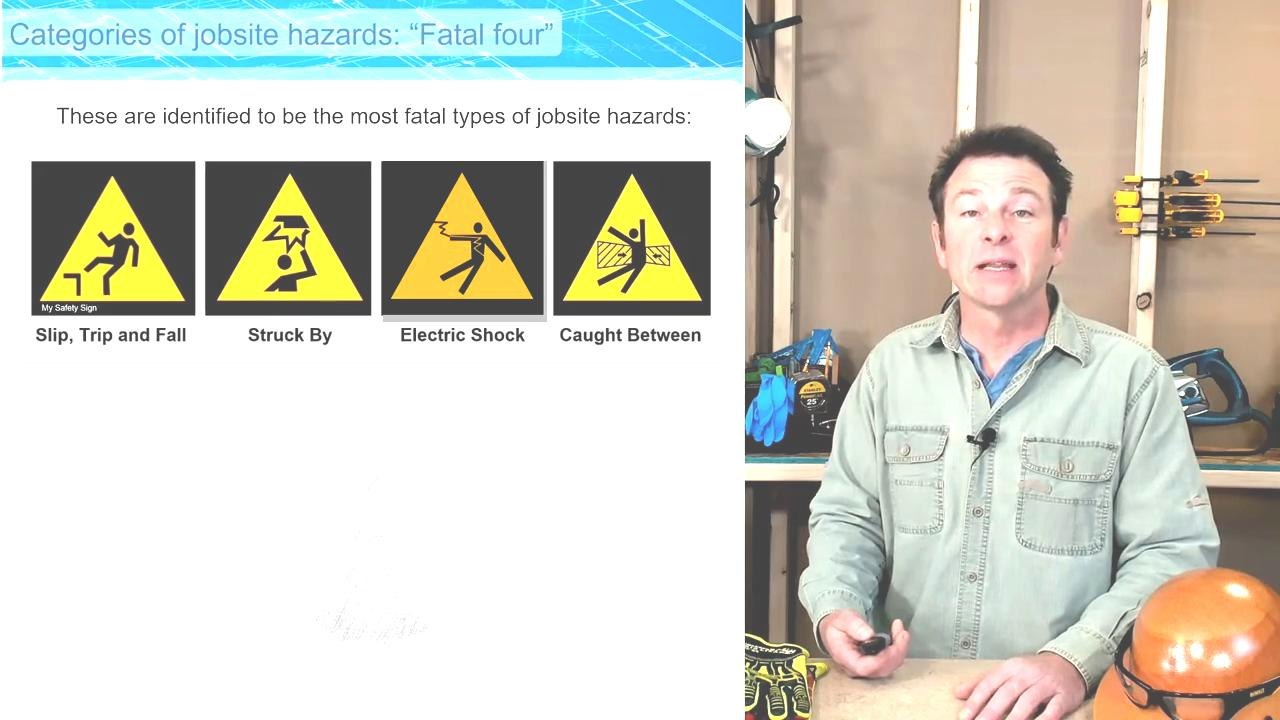safety_signage: (383, 162, 547, 323)
